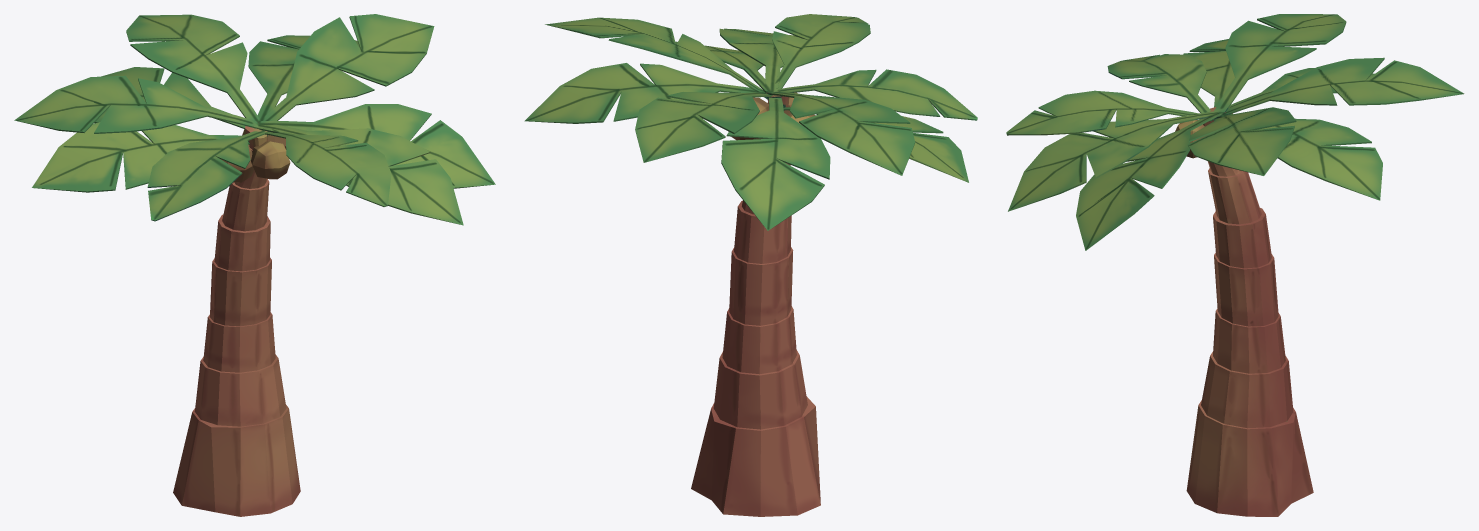
Rendered from Tree1.fbx.
The picture shows the model from 3 angles, left to right: view 1: azimuth 30°, elevation 25°; view 2: azimuth 150°, elevation 25°; view 3: azimuth 270°, elevation 25°; orthographic projection. The views are drawn at different scales.
Parts seen in each view (by area): view 1: Tree_copy_1_Tree; view 2: Tree_copy_1_Tree; view 3: Tree_copy_1_Tree.
Part boxes in pixels (x1=…): Tree_copy_1_Tree: x1=14, y1=14, x2=495, y2=516; Tree_copy_1_Tree: x1=524, y1=14, x2=977, y2=516; Tree_copy_1_Tree: x1=1006, y1=14, x2=1464, y2=516.
Bounding box in the file's own units: 7.64 × 7.64 × 7.36.
